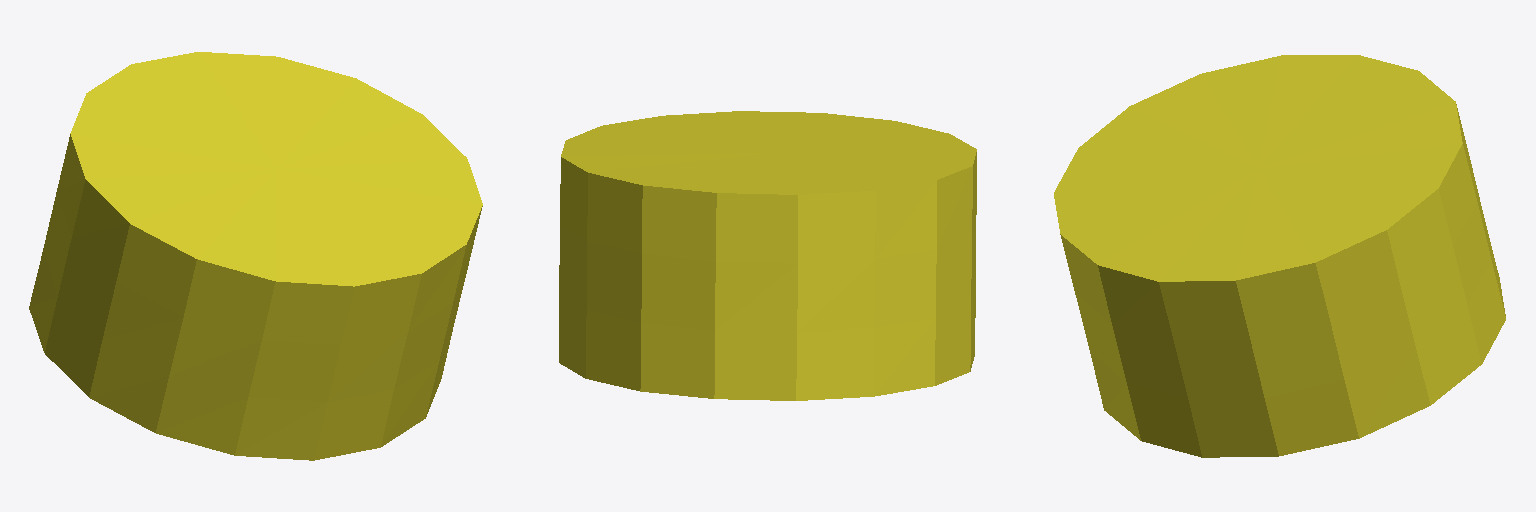
3 renders of one model, left to right at view 1: azimuth 30°, elevation 25°; view 2: azimuth 150°, elevation 25°; view 3: azimuth 270°, elevation 25°, orthographic.
Parts seen in each view (by area): view 1: button2; view 2: button2; view 3: button2.
Boxes of the visible parts, box(x1,y1,x2,y2) form: button2: box(29, 52, 482, 460); button2: box(559, 111, 976, 400); button2: box(1054, 55, 1505, 457).
Size of the model in its own units: 0.0831 by 0.0572 by 0.0861.
Materials: 1 (1 with a texture image).